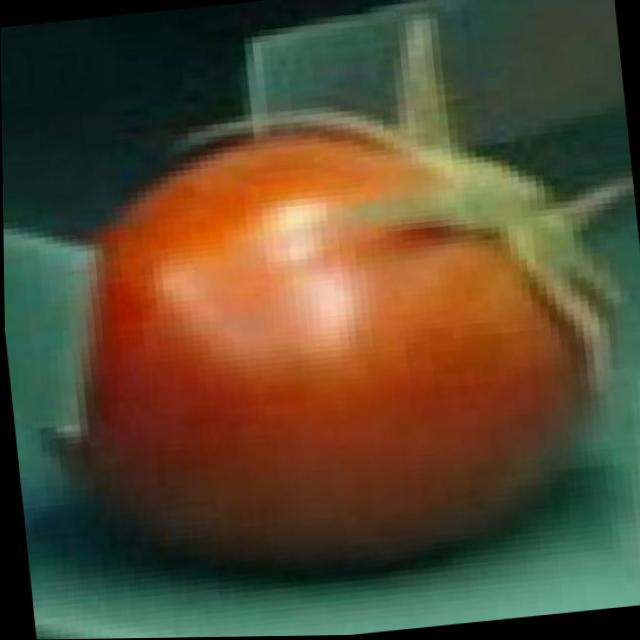tomato: (60, 99, 627, 583)
